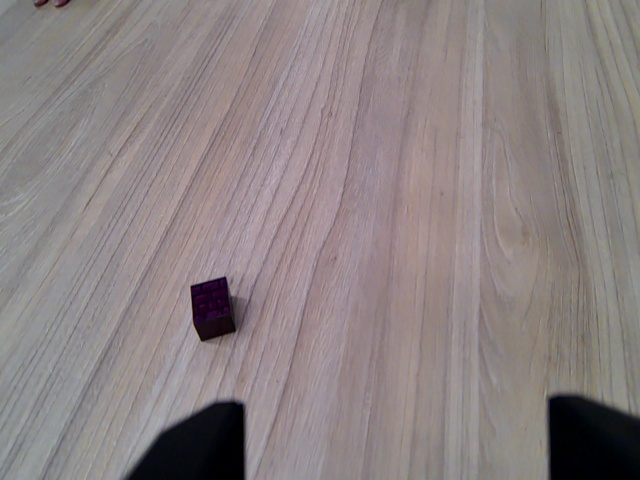brick: (188, 278, 241, 342)
